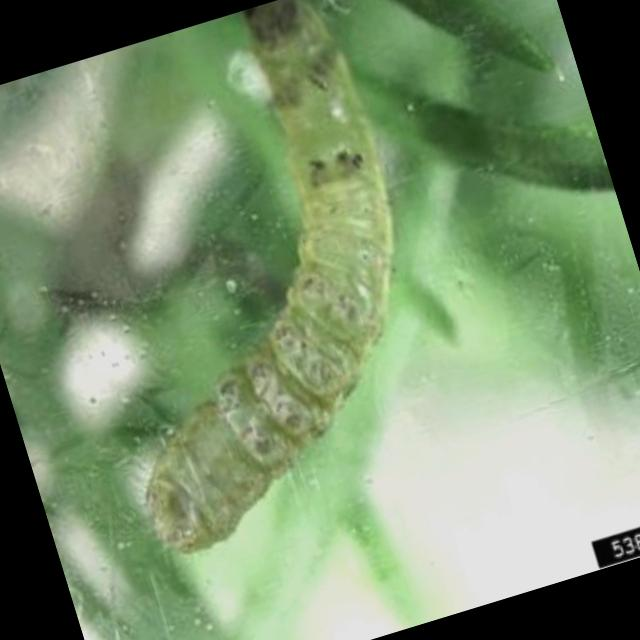Beet armyworm: (0, 0, 505, 576)
